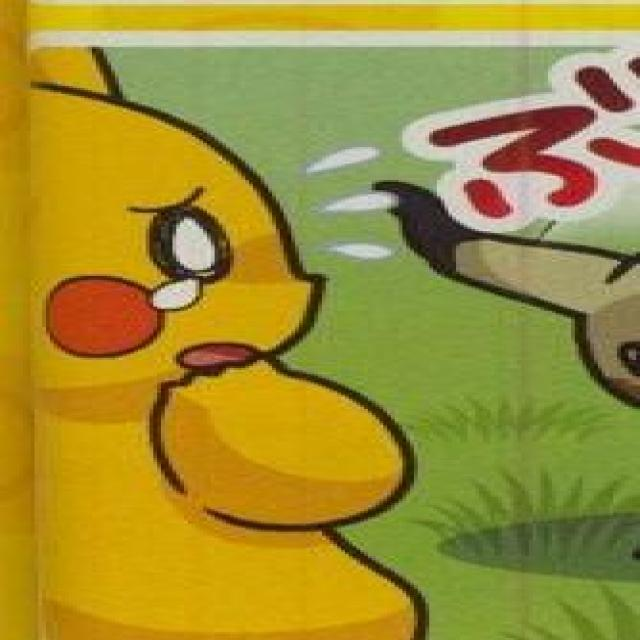pikachu: (17, 38, 425, 640)
